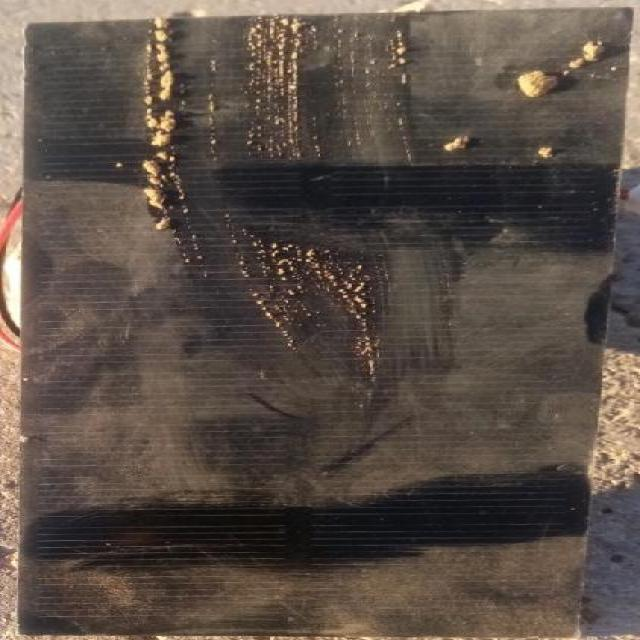faulty: (0, 1, 611, 614)
